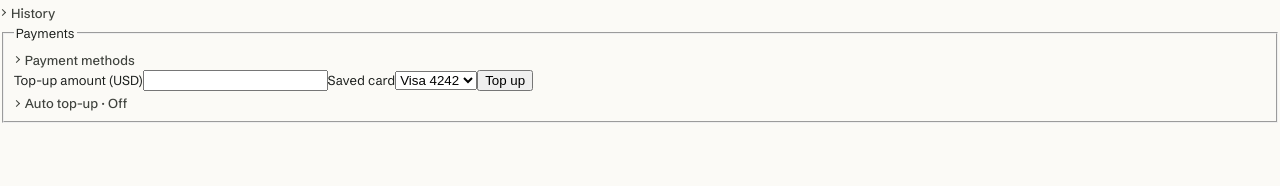
Test: self-care account tools › refuses a top-up of 0.00 before sending anything
Type "0.00" into the field labelled "Top-up amount (USD)" at (235, 80), box [143,70,328,90]
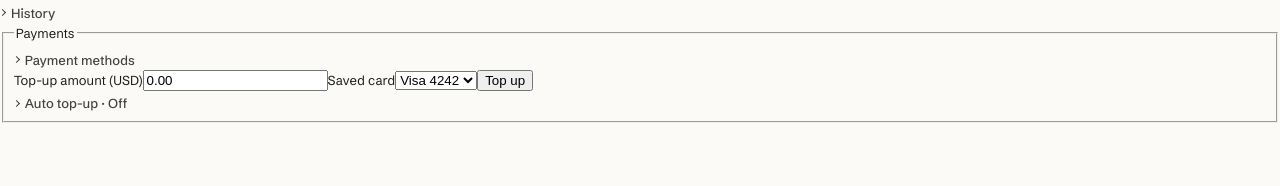
Click the button "Top up" at (505, 80), box [477,70,533,90]
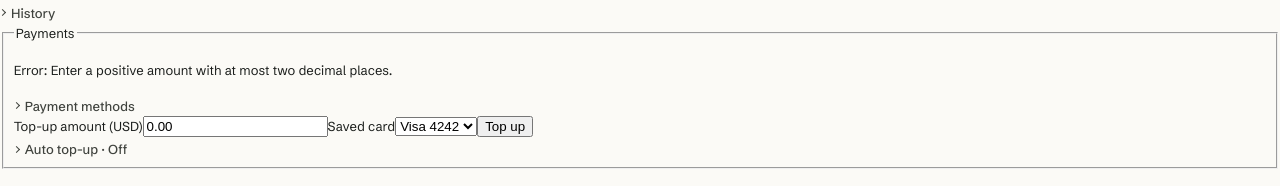
Now the message reads "Error: Enter a positive amount with at most two decimal places.", box [14,62,393,78]
